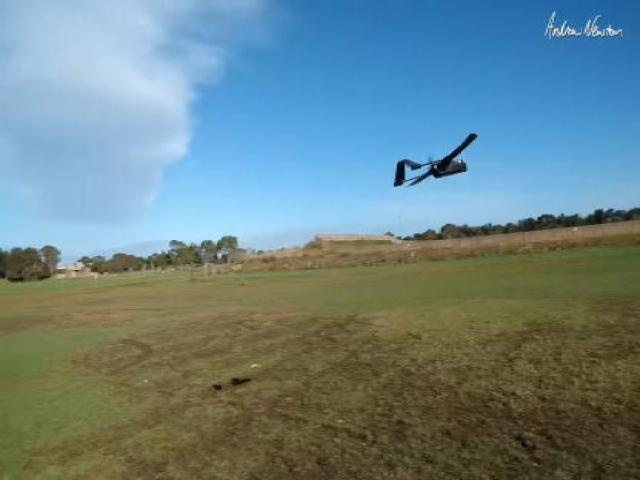uav: (390, 126, 484, 197)
